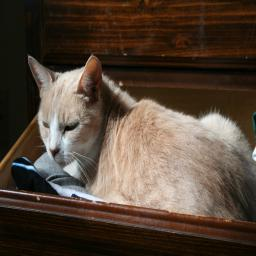catnose: (48, 142, 61, 158)
